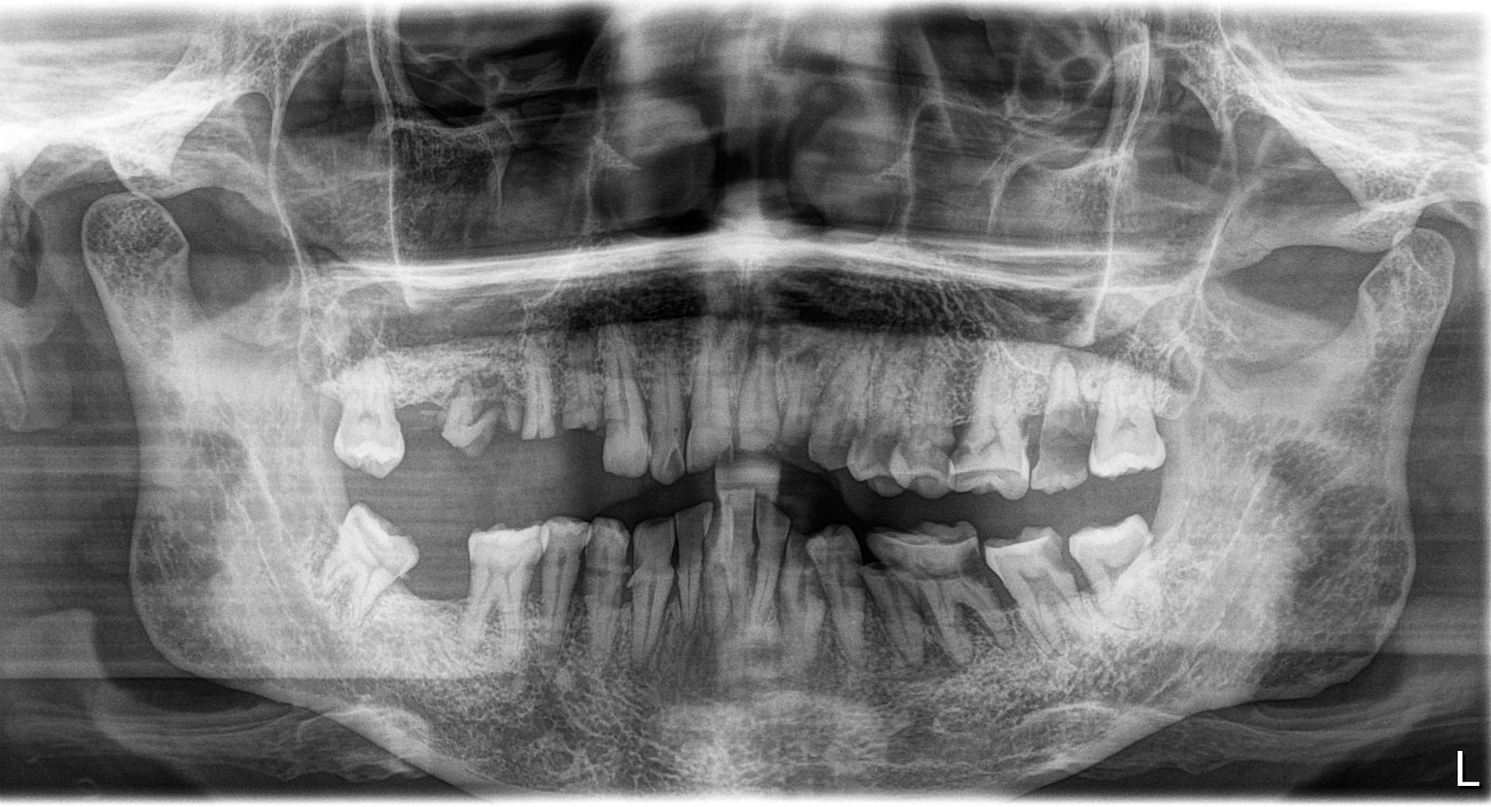Dental Caries: (1030, 413, 1087, 462)
Missing Tooth: (408, 540, 464, 633), (402, 382, 436, 453)
Tooth Fracture: (442, 380, 499, 462)
